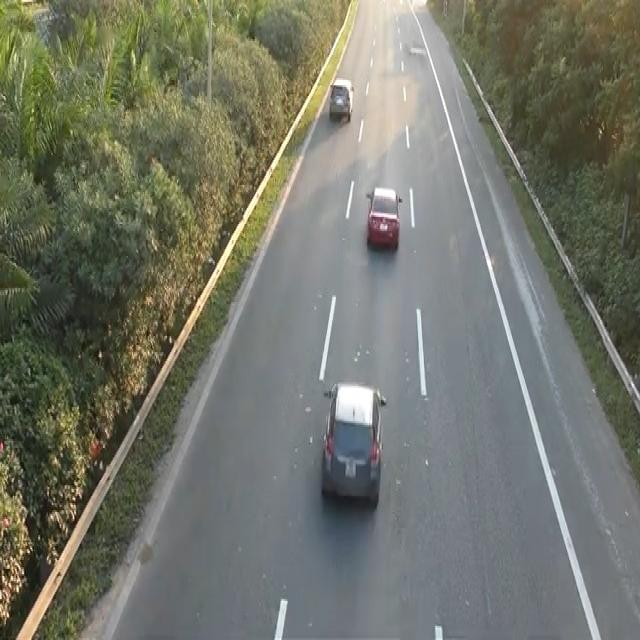bus: (318, 375, 387, 509), (364, 183, 402, 251), (328, 74, 354, 122)
